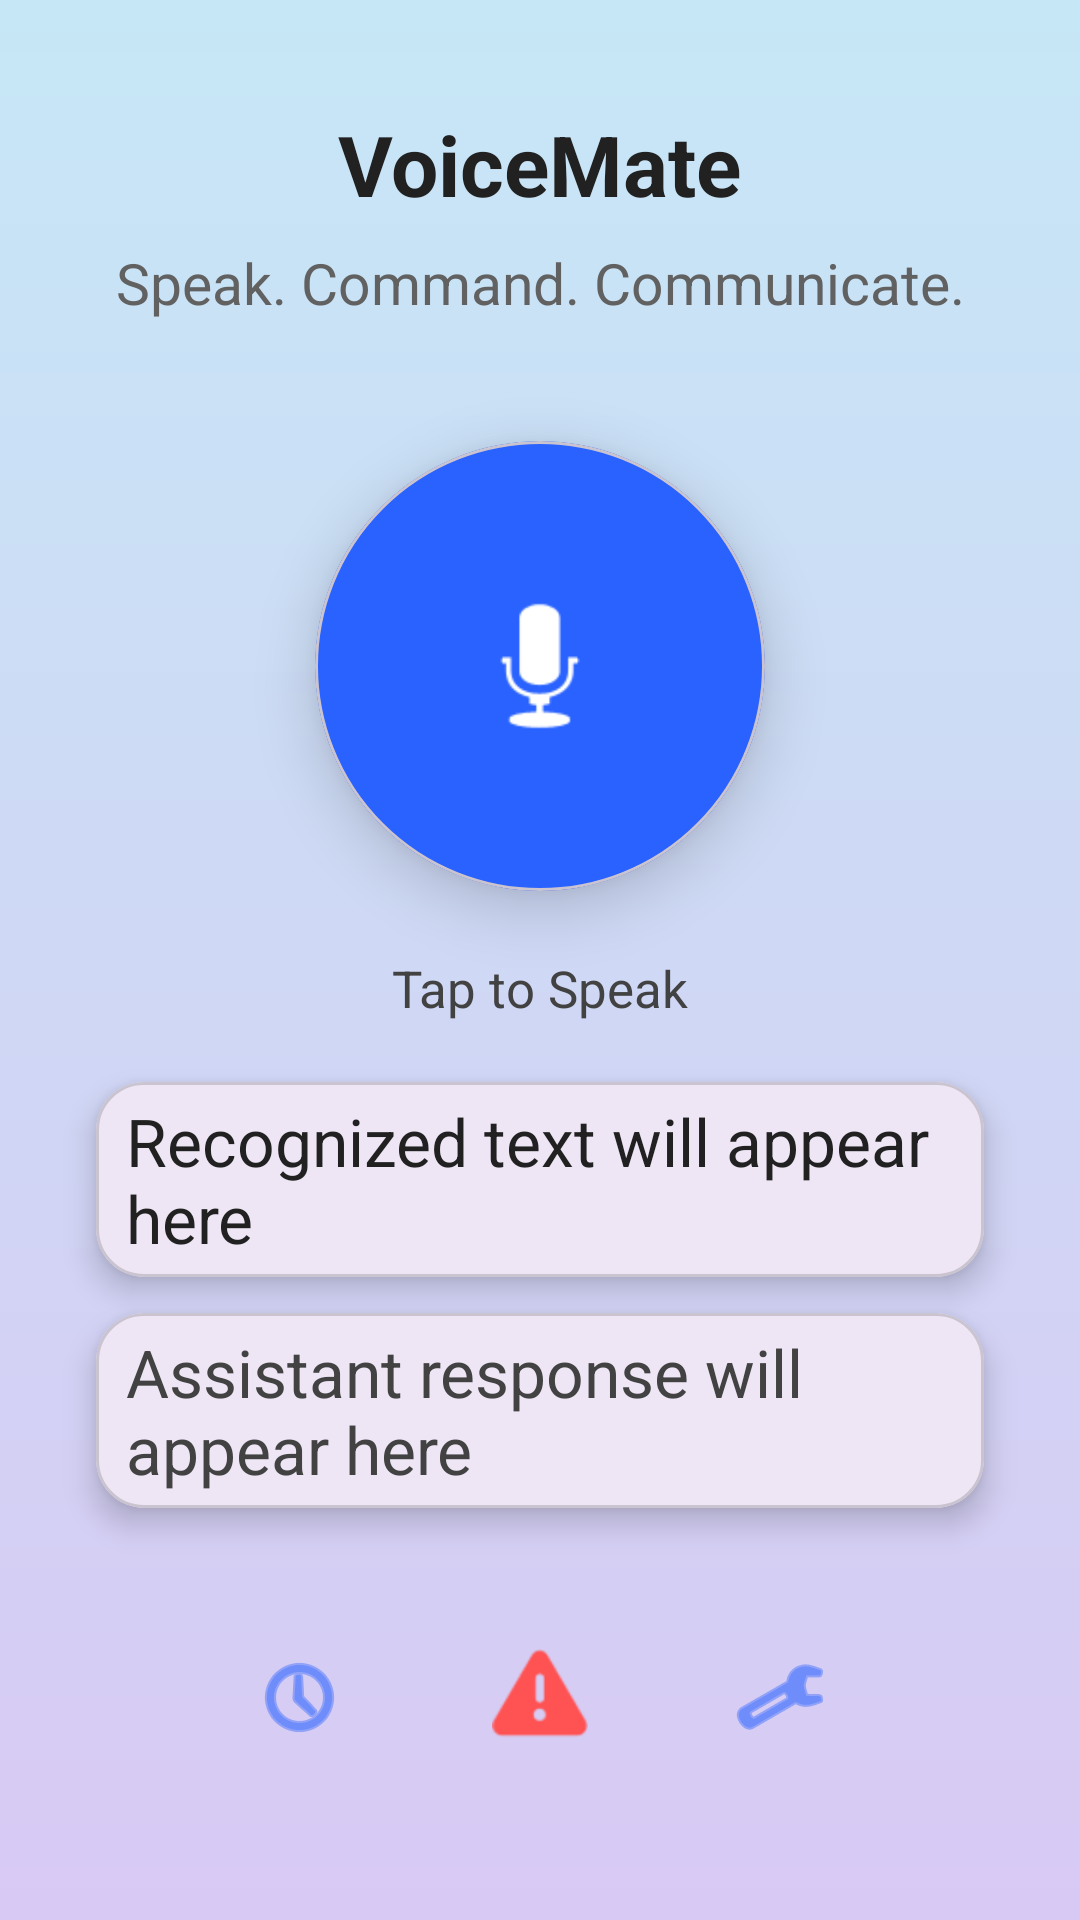

Where to tap for icons on this 1080*1920 app screen, as (x,y):
alert: (540,1692)
manage: (780,1697)
recent history: (299,1697)
speak now: (540,666)
